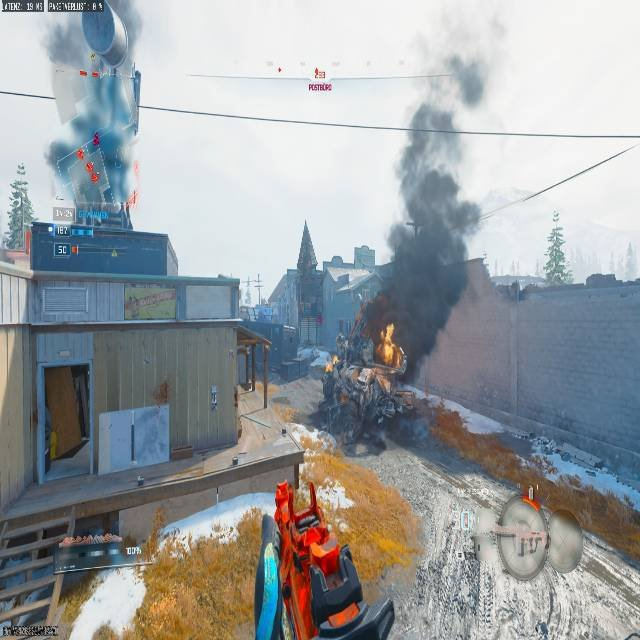player: (319, 360, 401, 457)
